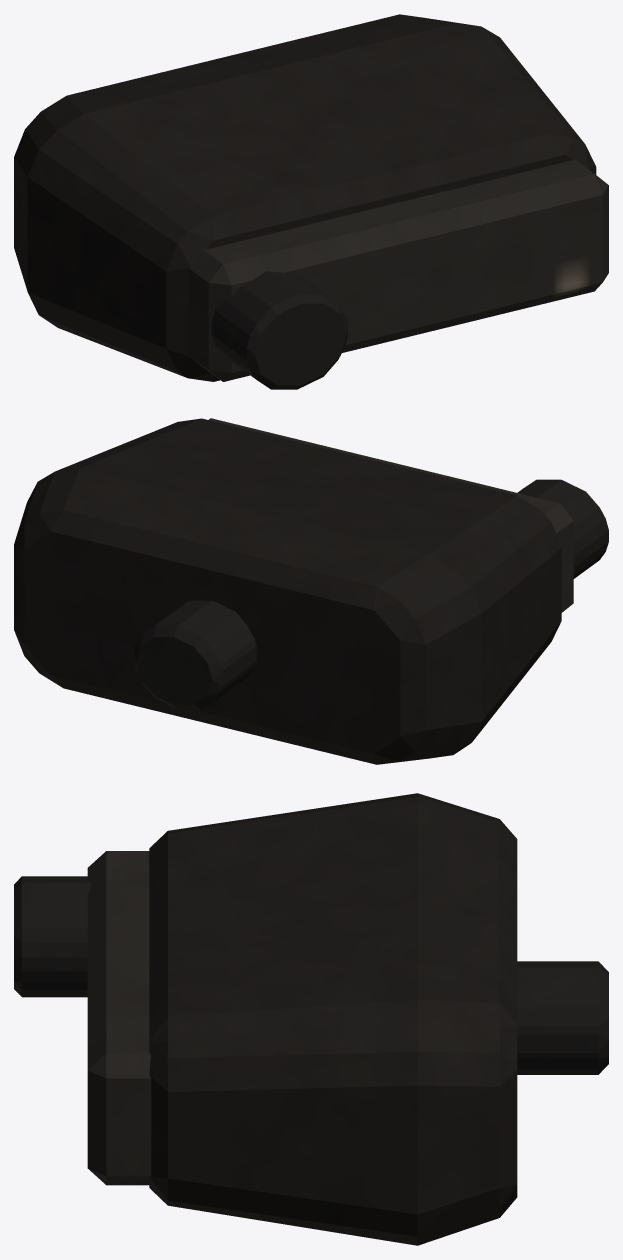
The model's file is turret_pod_L.obj.
3 renders of one model, top to bottom at view 1: azimuth 30°, elevation 25°; view 2: azimuth 150°, elevation 25°; view 3: azimuth 270°, elevation 25°, orthographic. The views are drawn at different scales.
Parts seen in each view (by area): view 1: turret_pod_L; view 2: turret_pod_L; view 3: turret_pod_L.
Part boxes in pixels (x1,y1,x2,y2): turret_pod_L: (14, 14, 608, 389); turret_pod_L: (14, 418, 608, 764); turret_pod_L: (14, 793, 608, 1245).
Bounding box in the file's own units: 0.47 × 0.202 × 0.448.
Materials: 1 (1 with a texture image).
